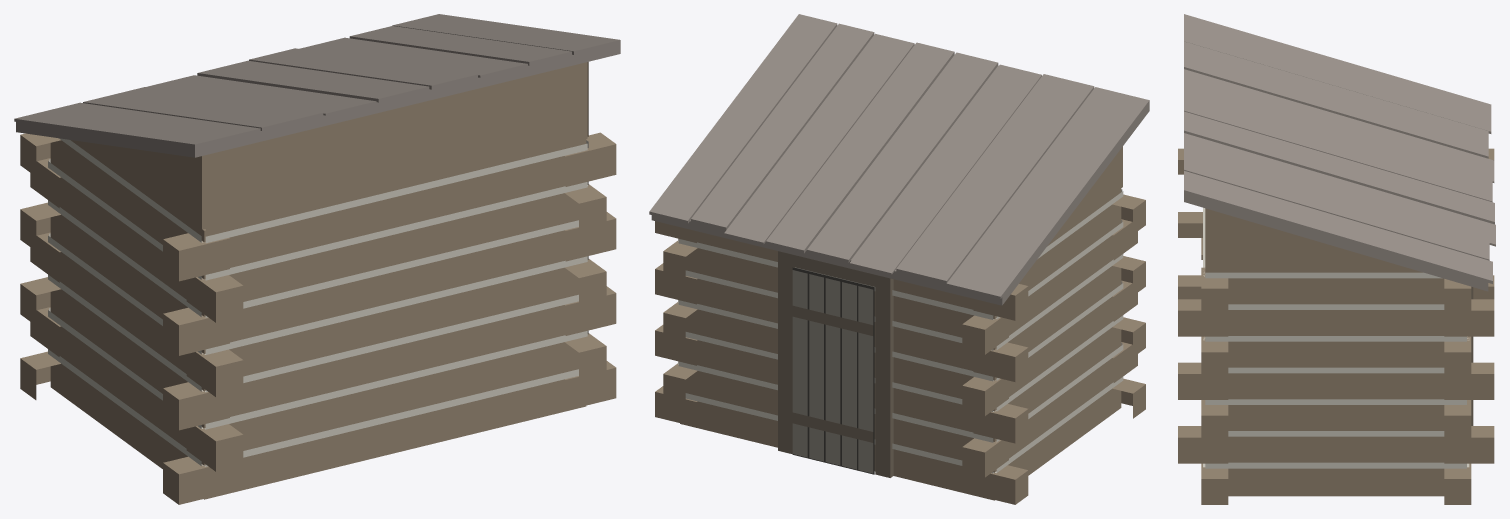
Rendered from fort_dearborn_out_building_ne__out_building_1830.glb.
3 renders of one model, left to right at view 1: azimuth 30°, elevation 25°; view 2: azimuth 150°, elevation 25°; view 3: azimuth 270°, elevation 25°, orthographic. The views are drawn at different scales.
Visible parts, largest first — view 1: fort_dearborn_out_building_ne__out_building_1830; view 2: fort_dearborn_out_building_ne__out_building_1830; view 3: fort_dearborn_out_building_ne__out_building_1830.
Boxes of the visible parts, x1,y1,x2,y2 form: fort_dearborn_out_building_ne__out_building_1830: [14, 14, 620, 504]; fort_dearborn_out_building_ne__out_building_1830: [649, 14, 1149, 504]; fort_dearborn_out_building_ne__out_building_1830: [1178, 14, 1495, 504].
Bounding box in the file's own units: 3.78 × 3.06 × 2.79.
